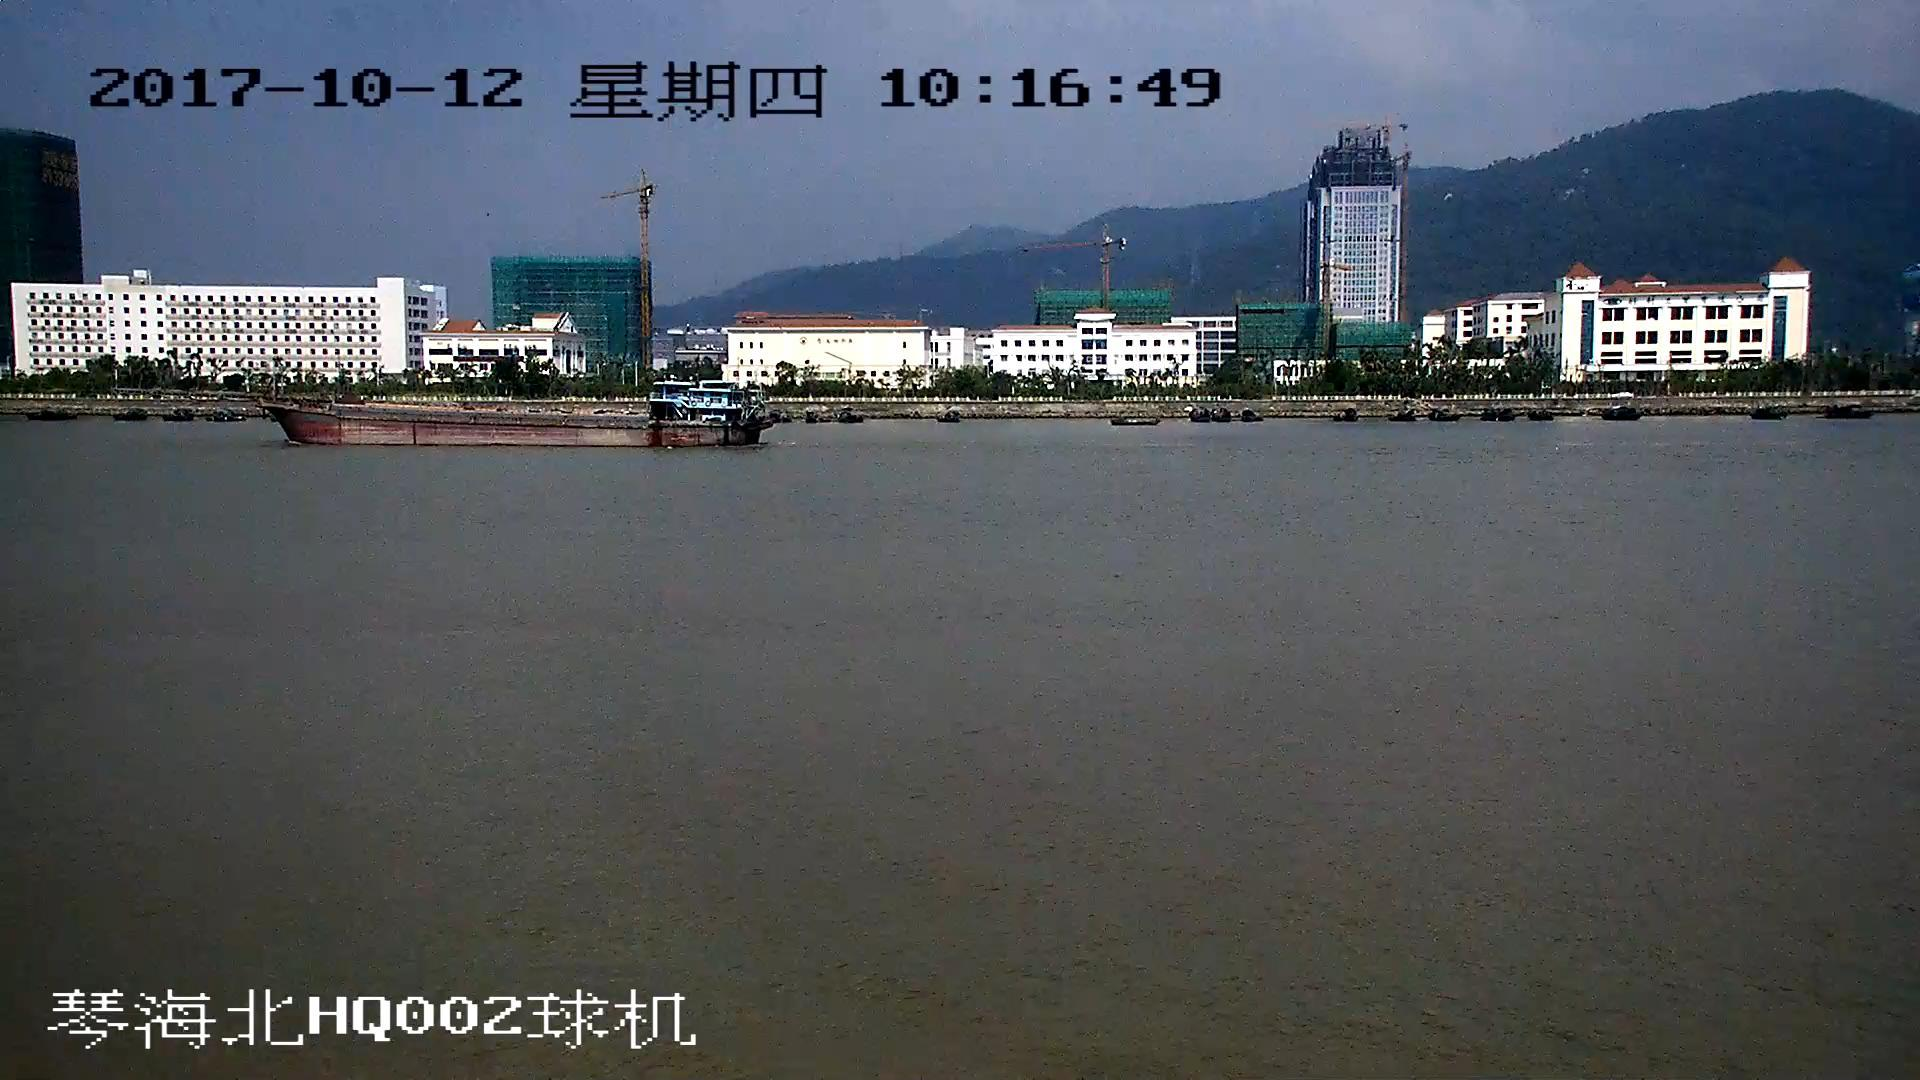Ship: (269, 380, 770, 448)
